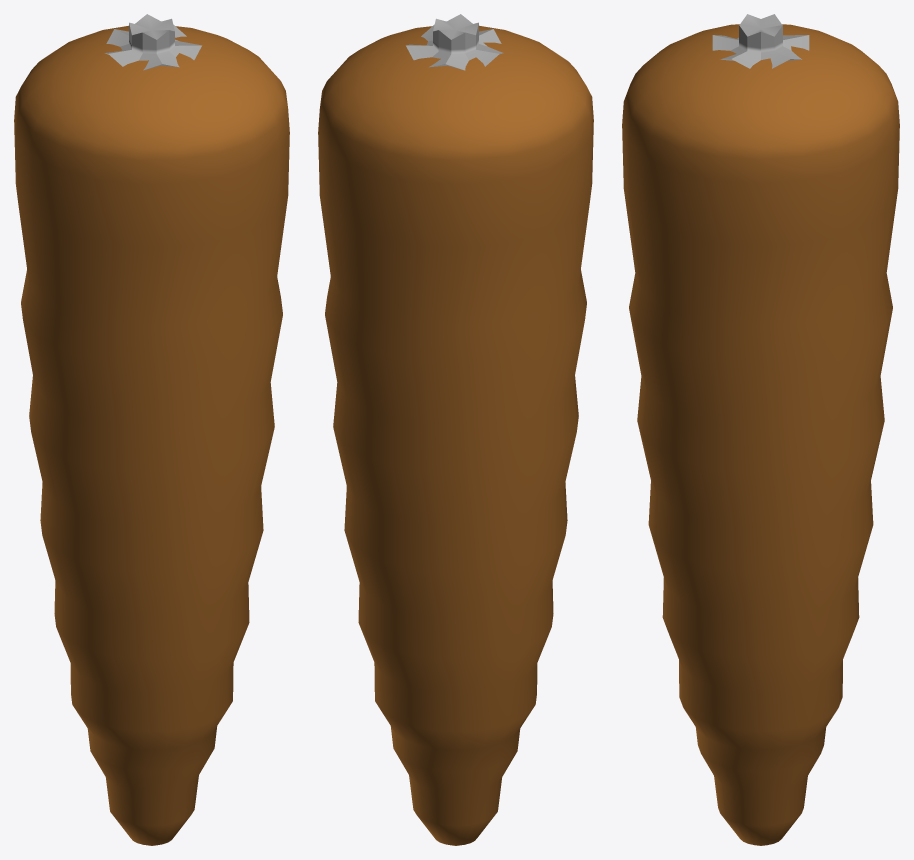
Rendered from zanahoria.fbx.
3 views of the same model, side by side, from view 1: azimuth 30°, elevation 25°; view 2: azimuth 150°, elevation 25°; view 3: azimuth 270°, elevation 25° (orthographic).
Parts seen in each view (by area): view 1: pCylinder9; view 2: pCylinder9; view 3: pCylinder9.
Part boxes in pixels (left/top/right/bottom): pCylinder9: left=14, top=14, right=289, bottom=845; pCylinder9: left=318, top=14, right=593, bottom=845; pCylinder9: left=622, top=14, right=899, bottom=845.
Size of the model in its own units: 0.9822 by 3.21 by 0.9822.
